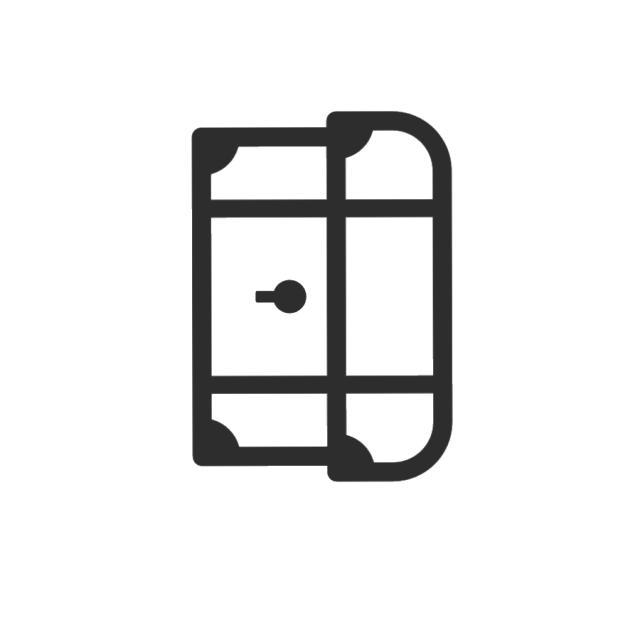treasure_box: (186, 107, 459, 493)
